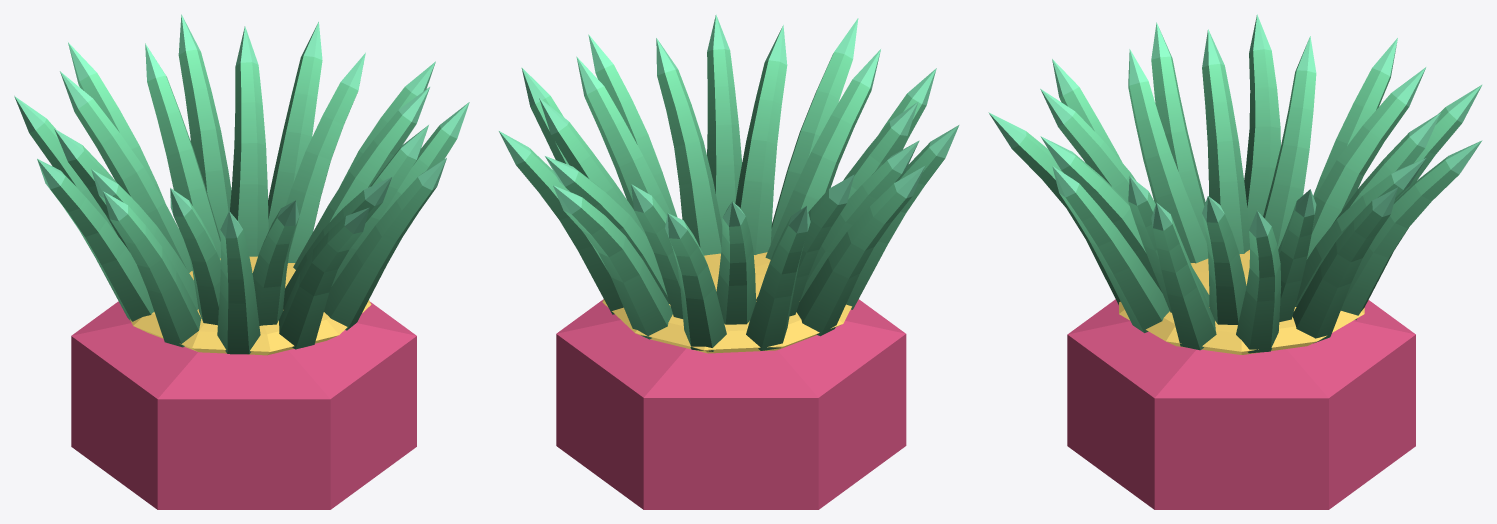
The model's file is Anemone.glb.
3 renders of one model, left to right at view 1: azimuth 30°, elevation 25°; view 2: azimuth 150°, elevation 25°; view 3: azimuth 270°, elevation 25°, orthographic.
Visible parts, largest first — view 1: Anemone; view 2: Anemone; view 3: Anemone.
Part boxes in pixels (x1,y1,x2,y2): Anemone: [14, 14, 469, 509]; Anemone: [499, 14, 959, 509]; Anemone: [988, 14, 1482, 509].
Bounding box in the file's own units: 1.98 × 1.57 × 2.11.
Materials: 1 (1 with a texture image).
